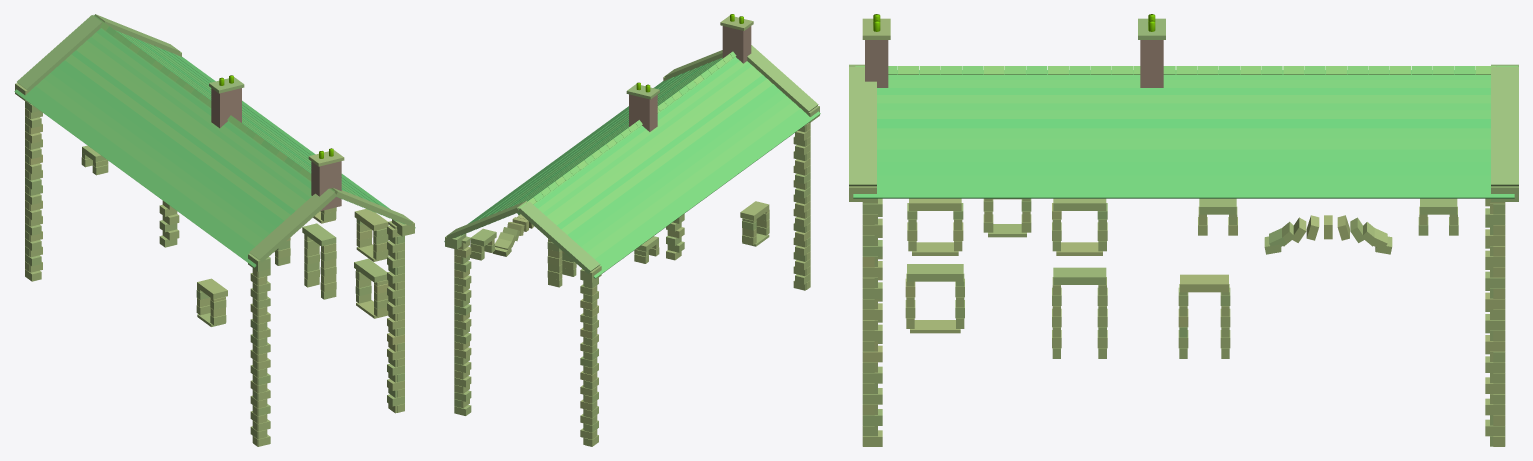
The model's file is SM_Bld_066_Stone.glb.
The picture shows the model from 3 angles, left to right: view 1: azimuth 30°, elevation 25°; view 2: azimuth 150°, elevation 25°; view 3: azimuth 270°, elevation 25°; orthographic projection. The views are drawn at different scales.
Parts seen in each view (by area): view 1: SM_Bld_066_Stone; view 2: SM_Bld_066_Stone; view 3: SM_Bld_066_Stone.
Part boxes in pixels (x1,y1,x2,y2): SM_Bld_066_Stone: (14, 14, 415, 446); SM_Bld_066_Stone: (444, 14, 820, 446); SM_Bld_066_Stone: (849, 14, 1518, 446).
Size of the model in its own units: 6.61 by 10.74 by 17.22.
